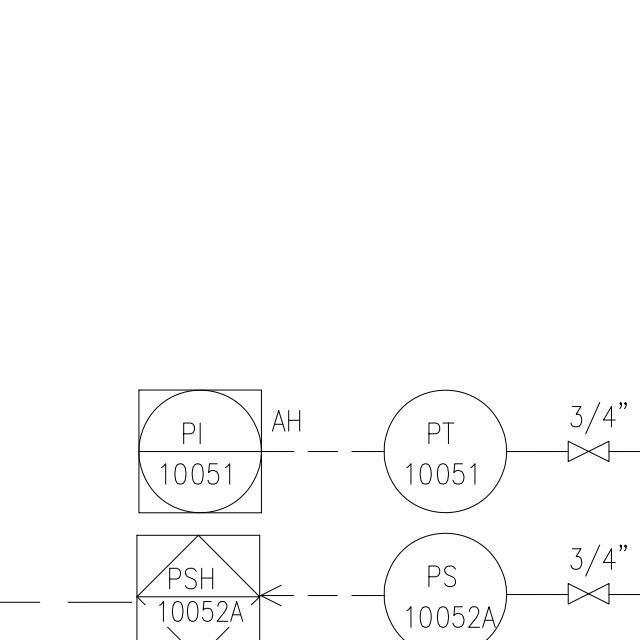GV: (563, 578, 613, 608), (559, 439, 617, 464)
